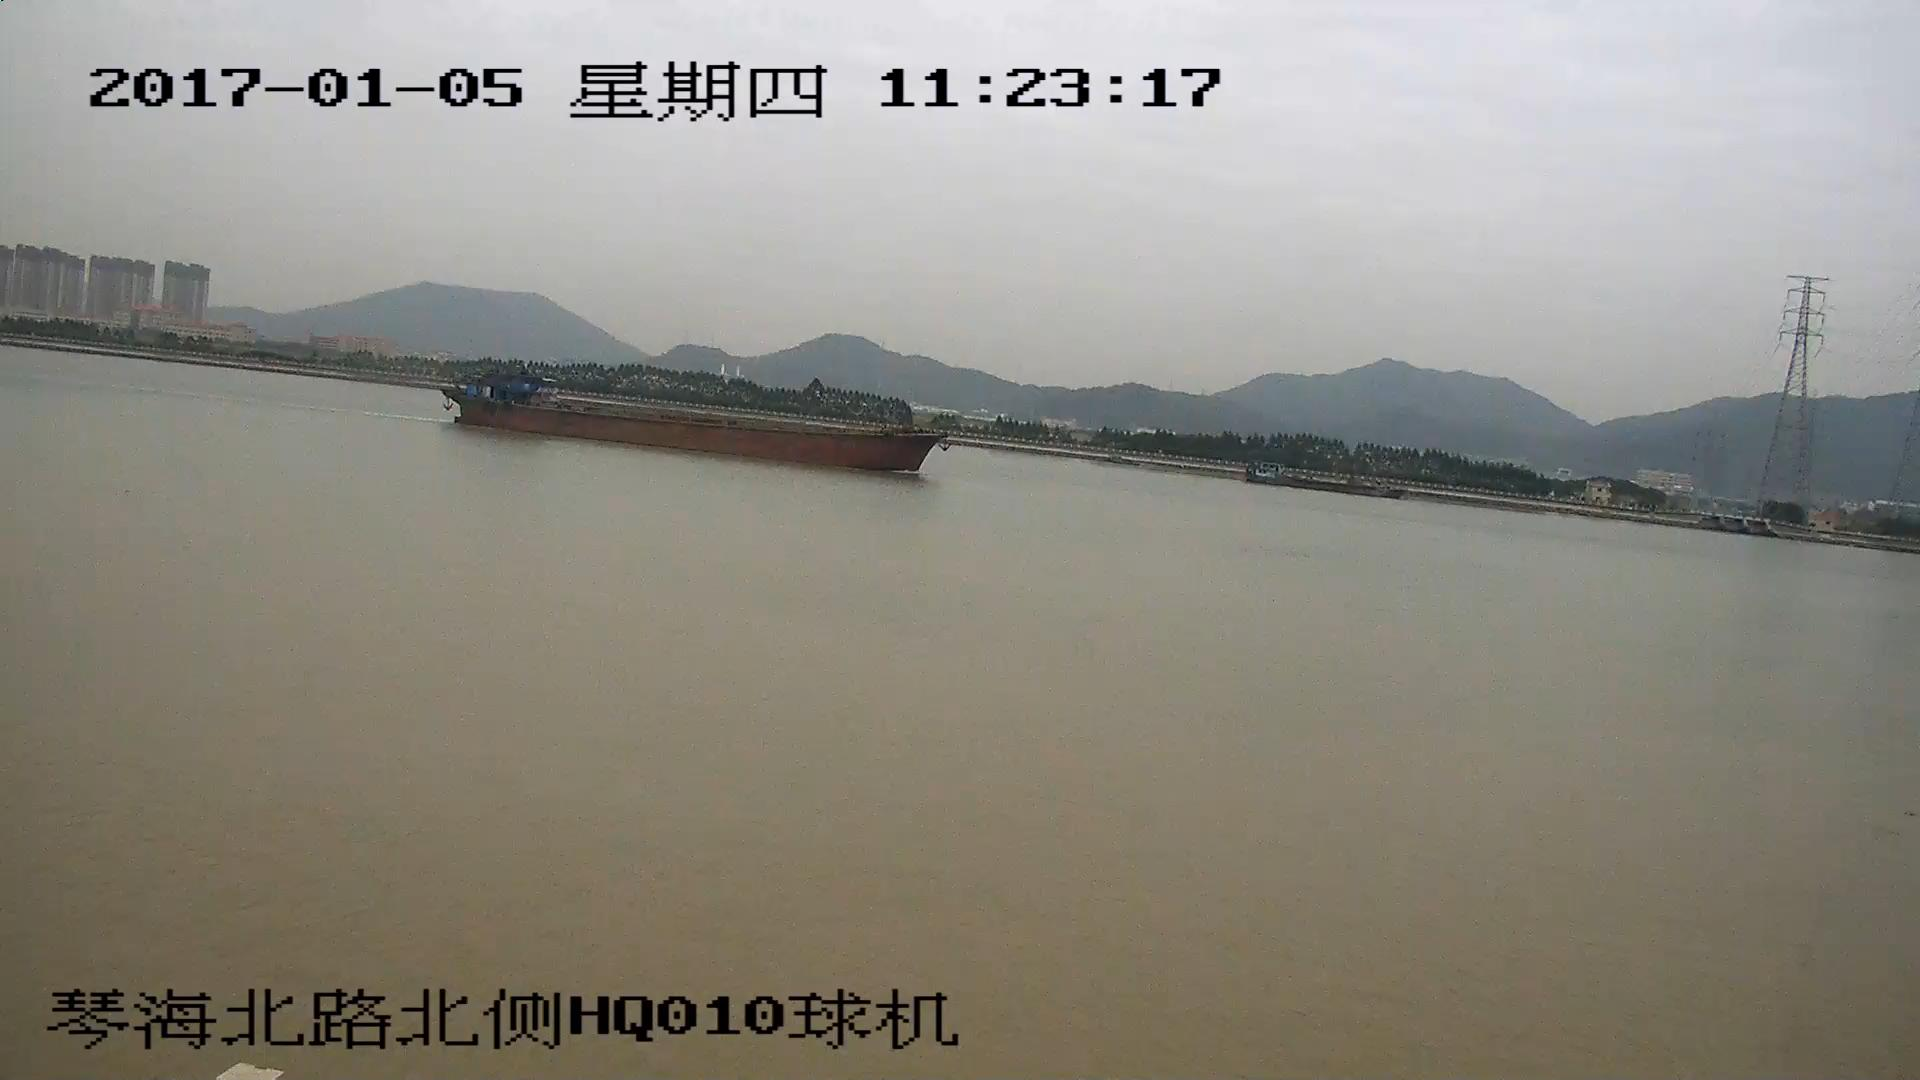bulk cargo carrier: (448, 370, 948, 468)
